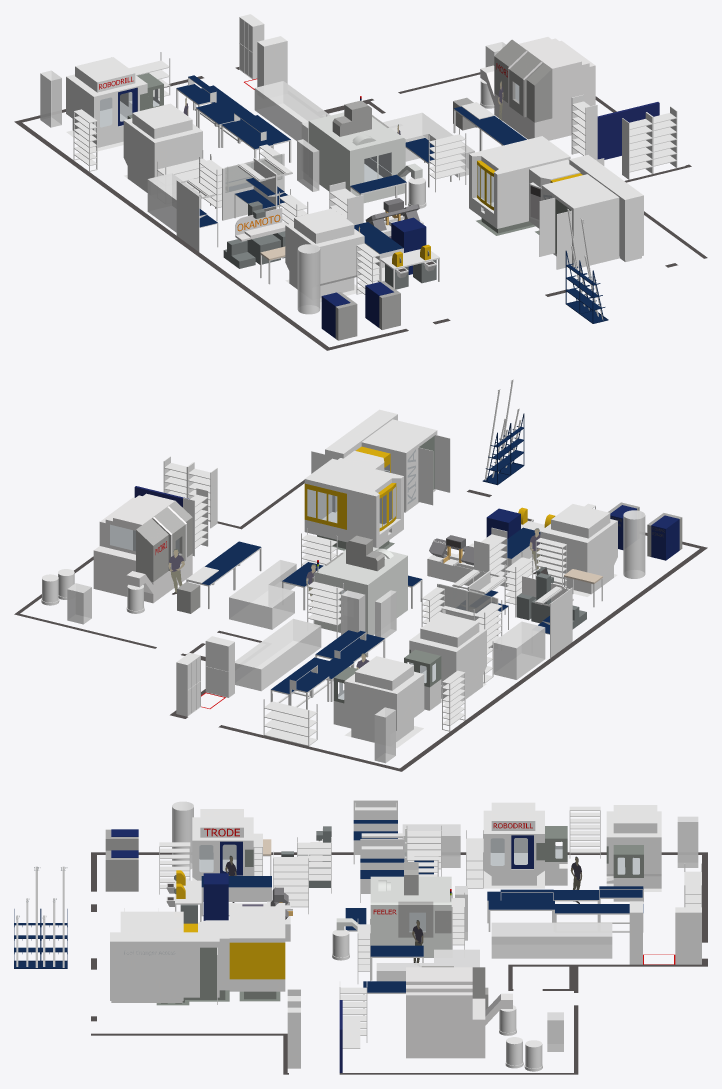
Rendered from mfg_lab.glb.
3 views of the same model, one above another, from view 1: azimuth 30°, elevation 25°; view 2: azimuth 150°, elevation 25°; view 3: azimuth 270°, elevation 25° (orthographic). The views are drawn at different scales.
Visible parts, largest first — view 1: Material2 (×2), Material3; view 2: Material2 (×2), Material3; view 3: Material2 (×2).
Boxes of the visible parts, x1=… form: Material2 (×2): x1=14, y1=14, x2=707, y2=350; Material3: x1=225, y1=154, x2=282, y2=192; Material2 (×2): x1=14, y1=379, x2=707, y2=771; Material3: x1=439, y1=584, x2=494, y2=617; Material2 (×2): x1=14, y1=800, x2=707, y2=1074.
Size of the model in its own units: 716 by 143 by 944.
Materials: 3 (3 with a texture image).
